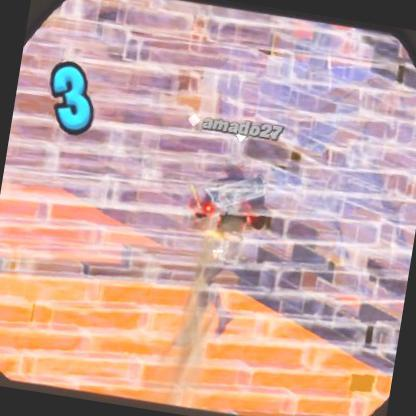person: (180, 152, 252, 324)
